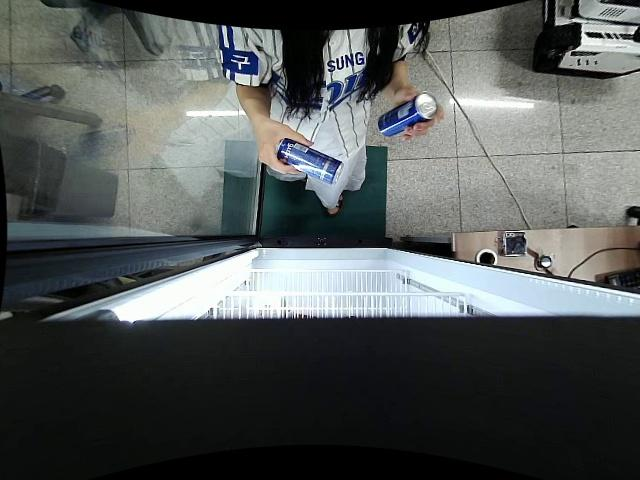00_hand: (257, 123, 315, 177), (393, 86, 443, 144)
16_hot6: (279, 140, 343, 186), (378, 91, 437, 139)
